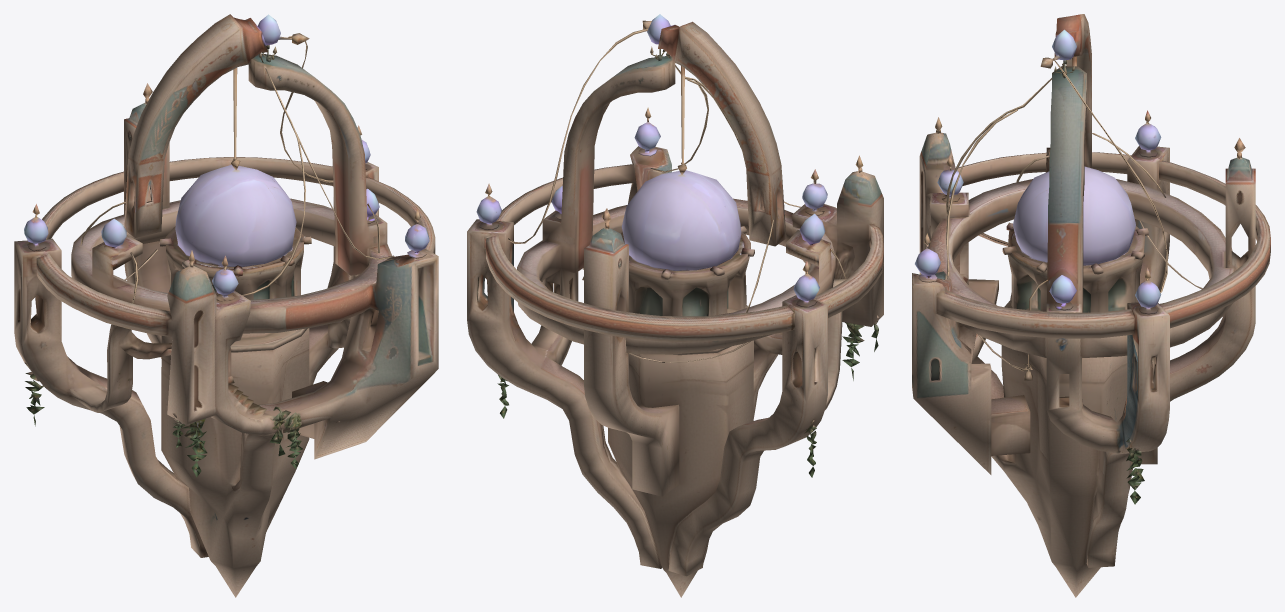
Rendered from hero.glb.
The picture shows the model from 3 angles, left to right: view 1: azimuth 30°, elevation 25°; view 2: azimuth 150°, elevation 25°; view 3: azimuth 270°, elevation 25°; orthographic projection.
Visible parts, largest first — view 1: tripo_node_2ac49d4e-7b1f-4df4-bb4d-ea2318d3df10; view 2: tripo_node_2ac49d4e-7b1f-4df4-bb4d-ea2318d3df10; view 3: tripo_node_2ac49d4e-7b1f-4df4-bb4d-ea2318d3df10.
Part boxes in pixels (x1,y1,x2,y2): tripo_node_2ac49d4e-7b1f-4df4-bb4d-ea2318d3df10: (14, 14, 438, 597); tripo_node_2ac49d4e-7b1f-4df4-bb4d-ea2318d3df10: (467, 14, 883, 597); tripo_node_2ac49d4e-7b1f-4df4-bb4d-ea2318d3df10: (912, 14, 1270, 597).
Size of the model in its own units: 0.6387 by 0.998 by 0.5566.
1 material, 1 textured.
